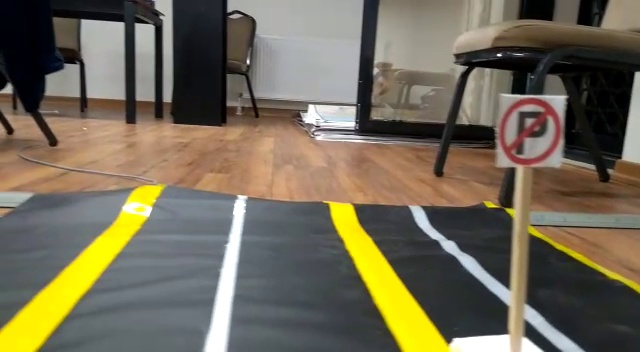park_yapilmaz: (495, 96, 561, 165)
